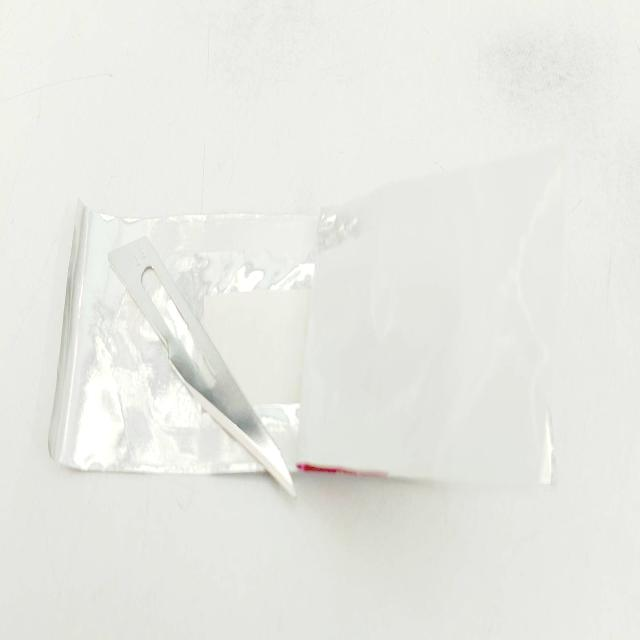General: (47, 142, 569, 493)
Sharps: (107, 234, 299, 498), (294, 459, 392, 480)
